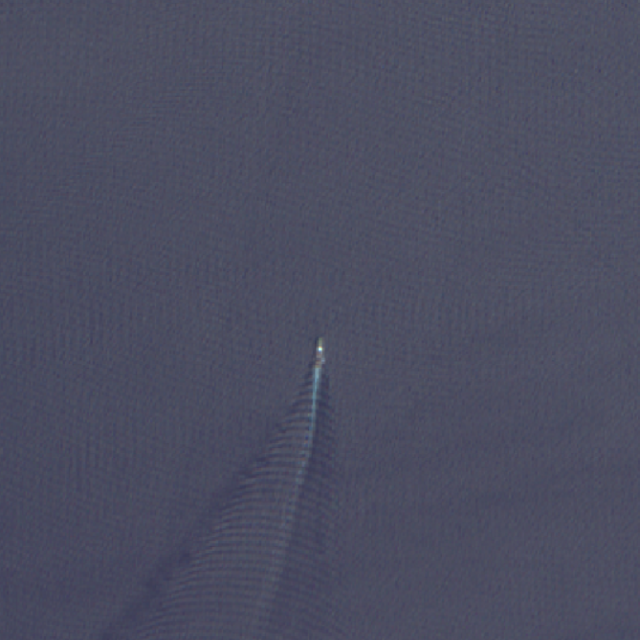wake: (228, 319, 392, 582)
